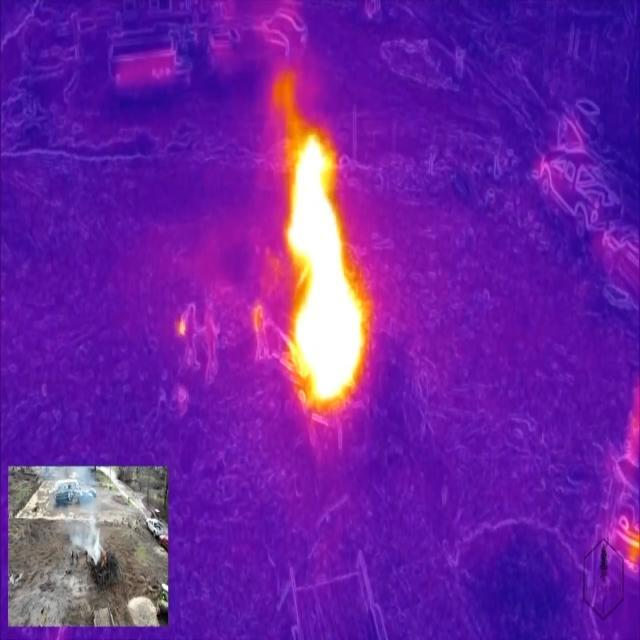fire: (283, 129, 372, 409)
